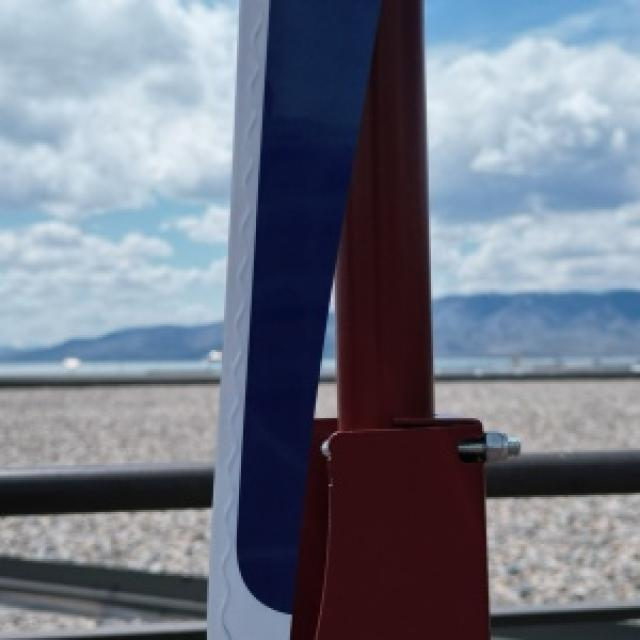healthy: (209, 0, 484, 638)
